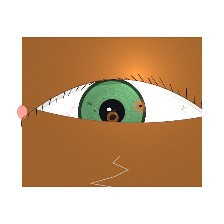foreign_body_visible: (95, 103, 131, 132)
